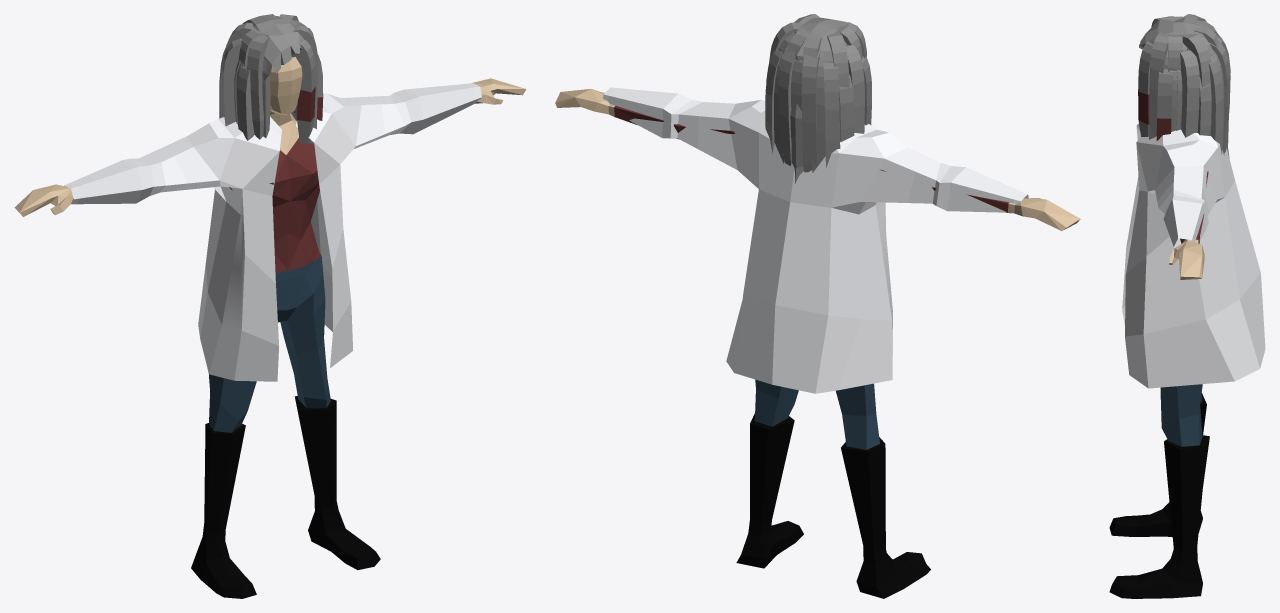
The model's file is femaleScientist.fbx.
3 views of the same model, side by side, from view 1: azimuth 30°, elevation 25°; view 2: azimuth 150°, elevation 25°; view 3: azimuth 270°, elevation 25° (orthographic). The views are drawn at different scales.
Parts seen in each view (by area): view 1: Torso Male Long Sleeves.001, Pants Female, Head 1 Female Hair 2, Torso Female, Head 1 Female Hair 1, Head 1 Female; view 2: Torso Male Long Sleeves.001, Pants Female, Head 1 Female Hair 2, Torso Female, Head 1 Female Hair 1; view 3: Torso Male Long Sleeves.001, Pants Female, Head 1 Female Hair 2, Torso Female, Head 1 Female Hair 1.
Part boxes in pixels (<box>): Torso Male Long Sleeves.001: <box>64,83,481,381</box>; Pants Female: <box>191,256,380,598</box>; Head 1 Female Hair 2: <box>219,14,323,144</box>; Torso Female: <box>14,78,526,273</box>; Head 1 Female Hair 1: <box>250,16,310,142</box>; Head 1 Female: <box>269,66,302,125</box>; Torso Male Long Sleeves.001: <box>603,87,1028,393</box>; Pants Female: <box>736,379,930,598</box>; Head 1 Female Hair 2: <box>765,14,871,172</box>; Torso Female: <box>555,88,1080,230</box>; Head 1 Female Hair 1: <box>790,17,846,183</box>; Torso Male Long Sleeves.001: <box>1122,123,1265,388</box>; Pants Female: <box>1109,384,1209,598</box>; Head 1 Female Hair 2: <box>1138,14,1230,155</box>; Torso Female: <box>1169,171,1208,279</box>; Head 1 Female Hair 1: <box>1139,17,1229,158</box>.
Bounding box in the file's own units: 293 × 297 × 77.93.
